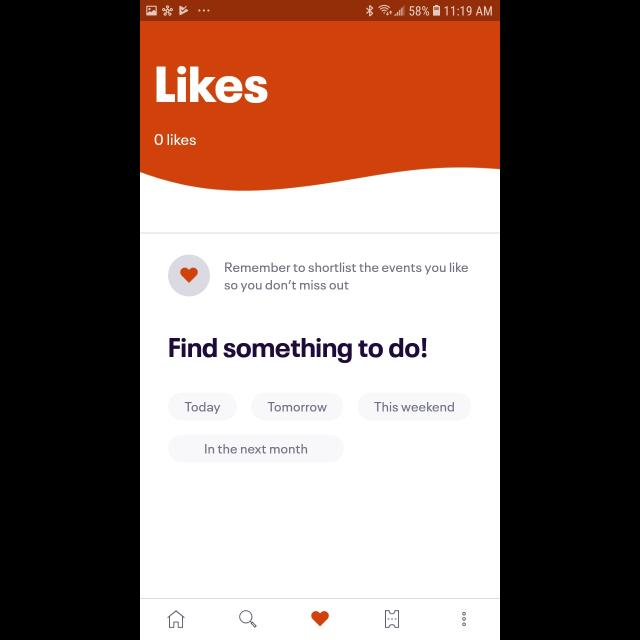icon: (169, 255, 211, 297), (167, 610, 185, 628), (239, 610, 257, 628), (311, 610, 329, 626), (384, 610, 400, 628), (462, 612, 466, 626)
text: (224, 262, 468, 292), (170, 337, 426, 363), (156, 66, 268, 104), (155, 134, 197, 146)
textbutton: (168, 433, 344, 462), (358, 392, 472, 421), (252, 393, 344, 421), (168, 393, 238, 421)
uppertaskbar: (140, 1, 500, 22)
